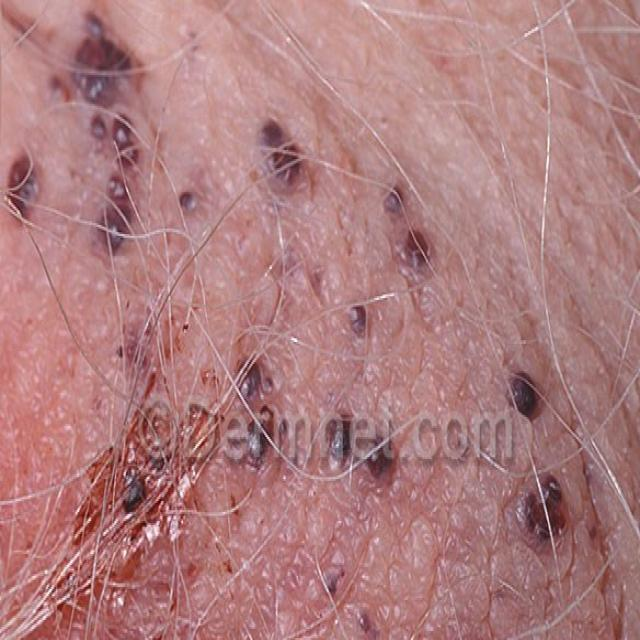Vascular Tumors: (8, 14, 139, 277), (222, 336, 398, 496), (298, 523, 472, 640), (497, 457, 601, 583), (364, 153, 452, 286), (241, 94, 323, 224), (481, 352, 562, 434), (126, 446, 157, 535)
